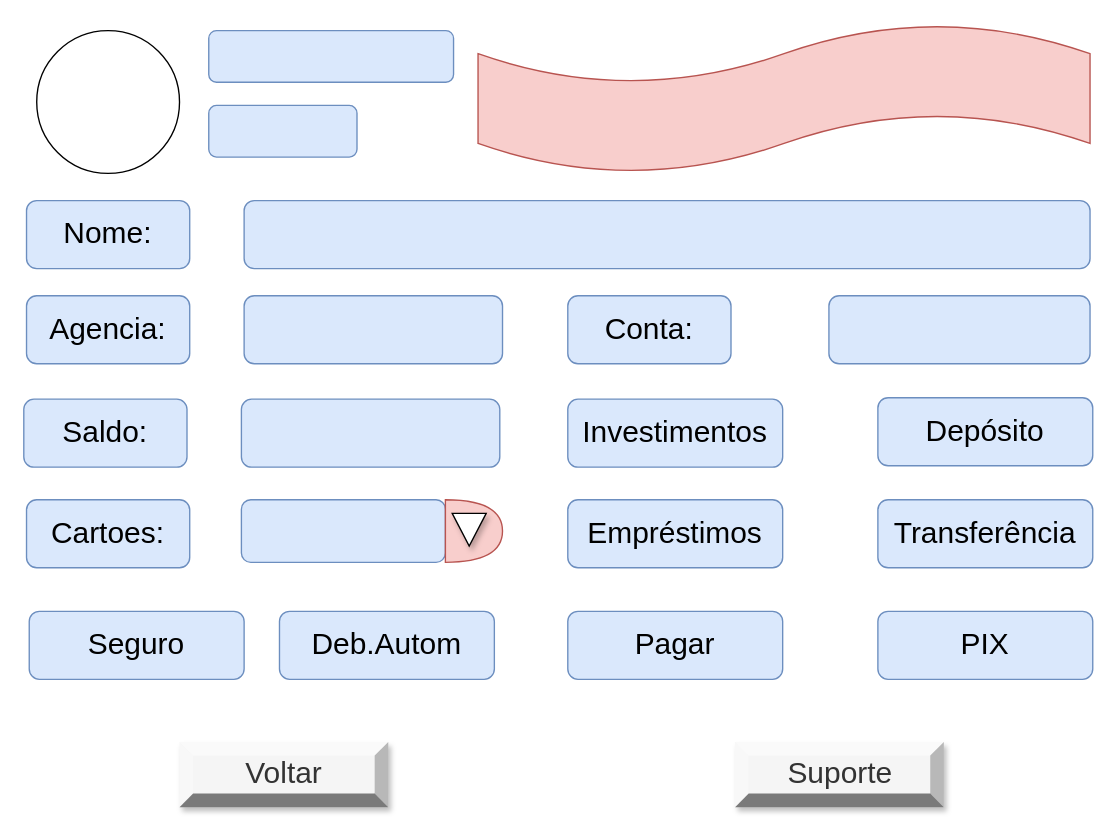
Image size: 1117x840. Some labels were removed from this diagram. Here are the shapes that lost their labels. From the top down, the centre of each, then its label:
point 330,55: Perfil Emprsarial
point 107,101: Foto
point 783,97: Nome Banco
point 282,130: Importar
